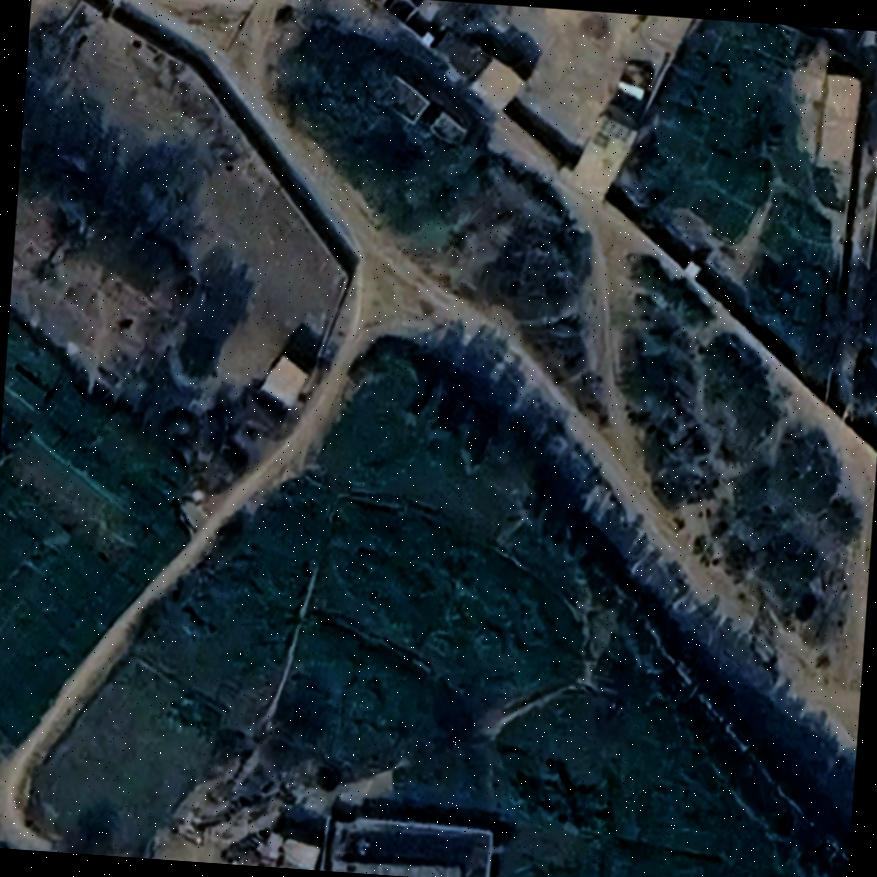Solarpanel: (589, 112, 640, 158)
